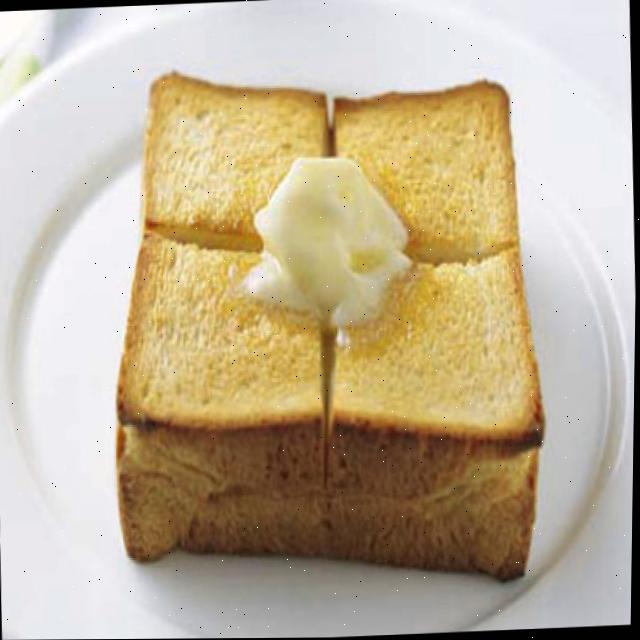面包点心: (79, 58, 562, 602)
